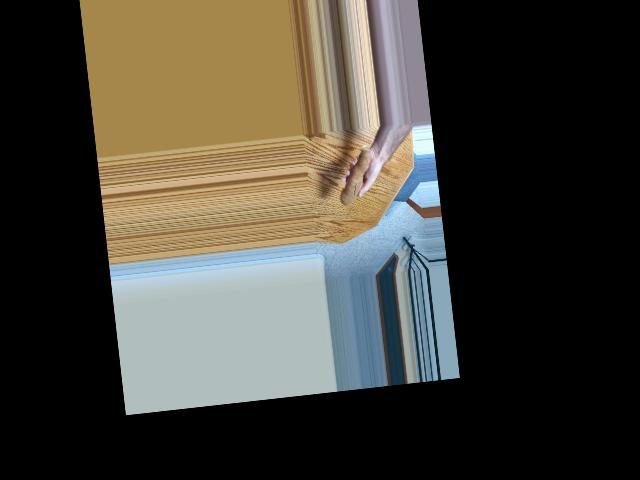sweet_potato: (334, 142, 380, 208)
